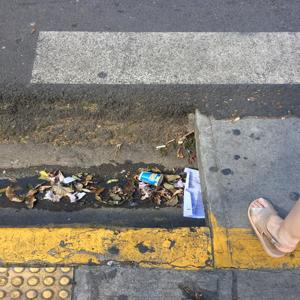cardboard: (178, 156, 208, 223), (141, 168, 169, 189)
